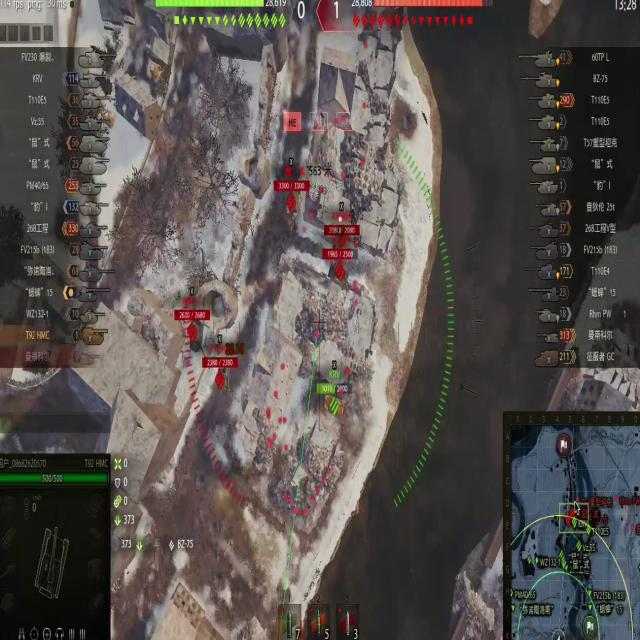tank: (322, 242, 364, 284), (275, 176, 303, 238), (175, 308, 208, 353), (205, 359, 235, 399)
